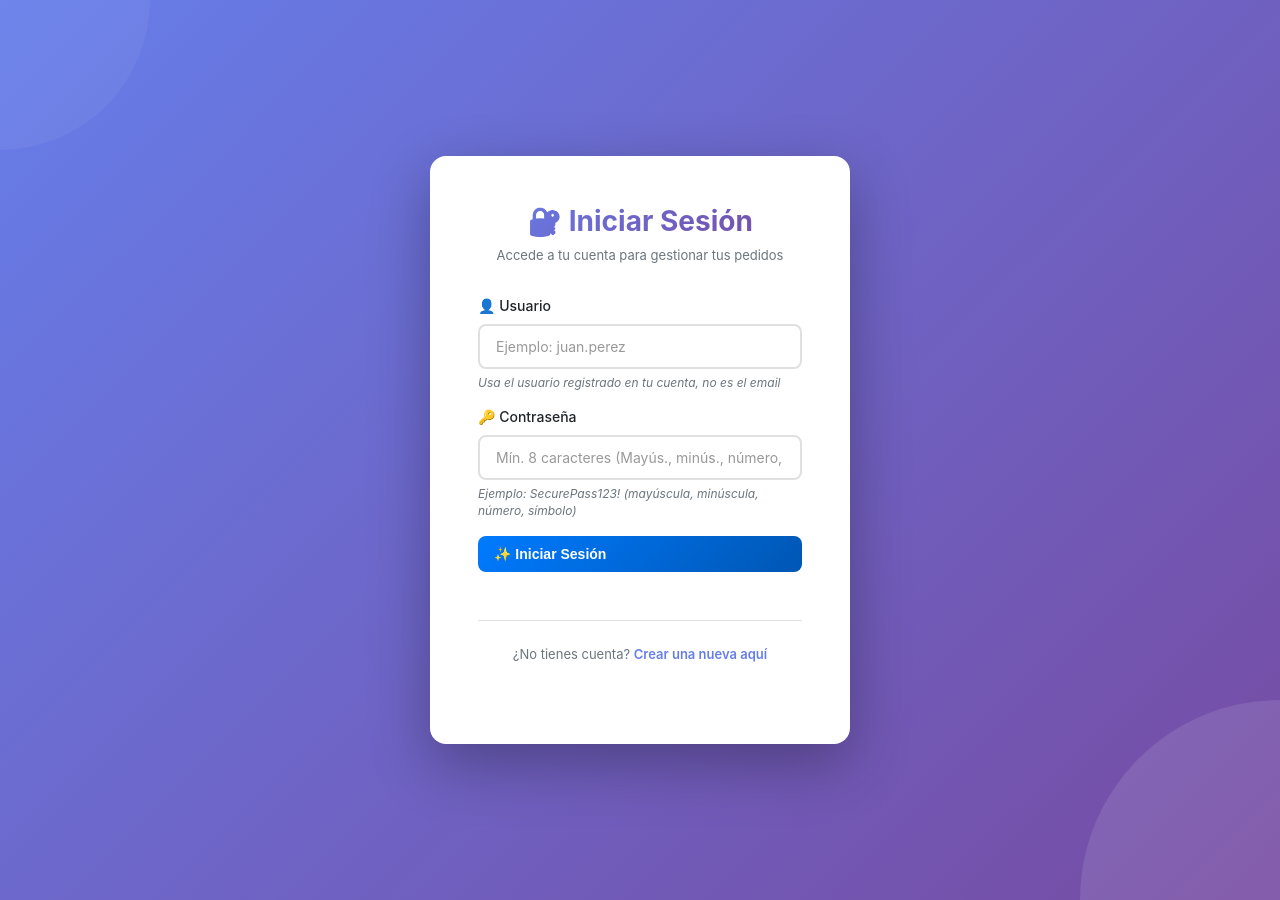
Test case: Login Component › should show validation error if username is empty
The width and height of the screenshot is (1280, 900).
Click the button "✨ Iniciar Sesión" at (550, 554), box [478, 536, 802, 572]
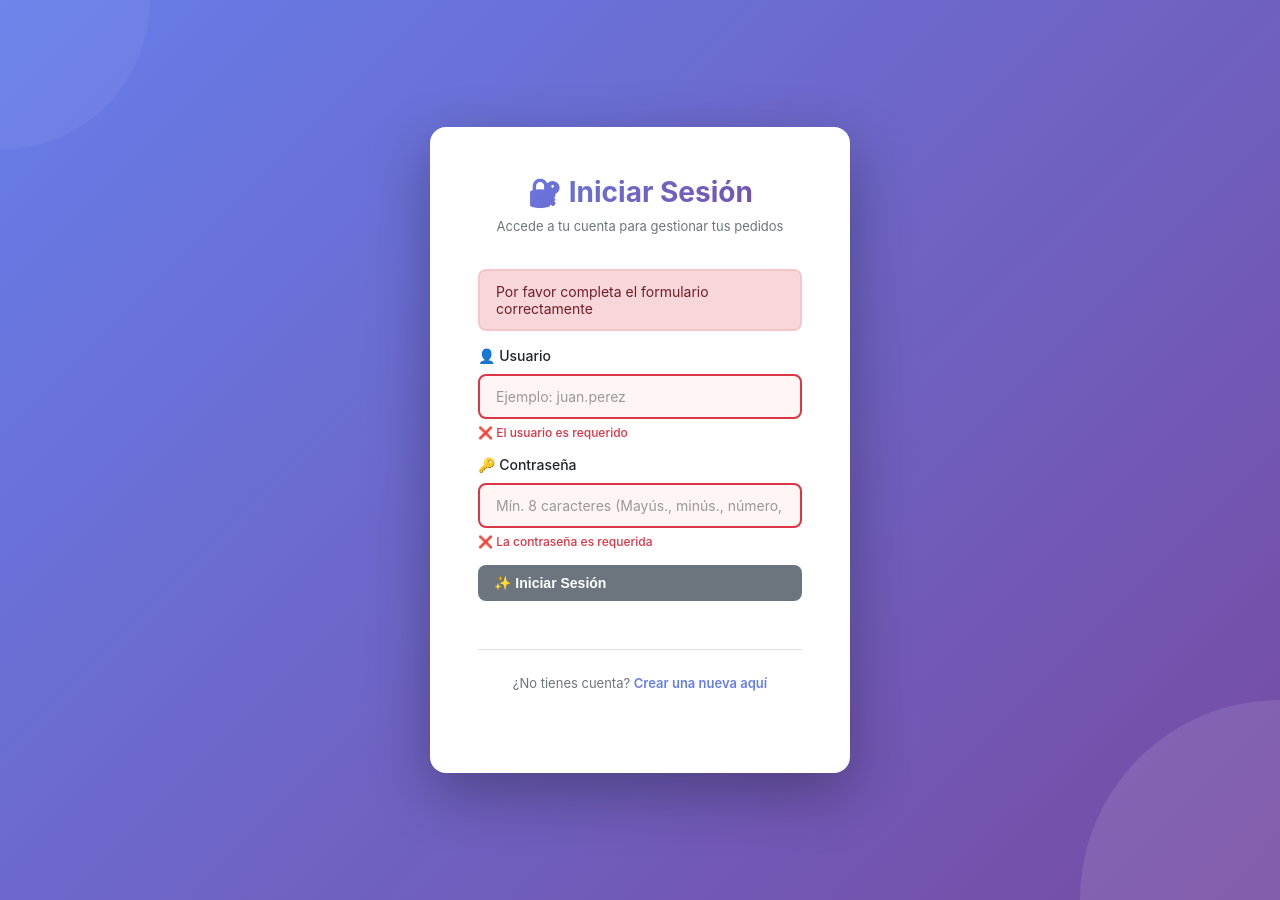
Expected: the text "❌ El usuario es requerido" is shown, [478, 424, 628, 440]
